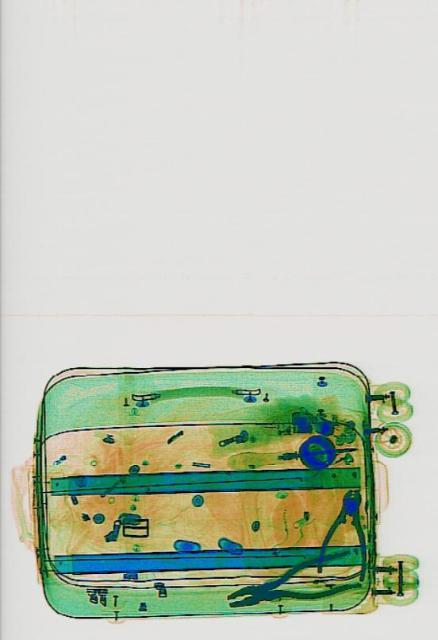Pliers: (221, 545, 358, 621), (315, 483, 370, 583)
